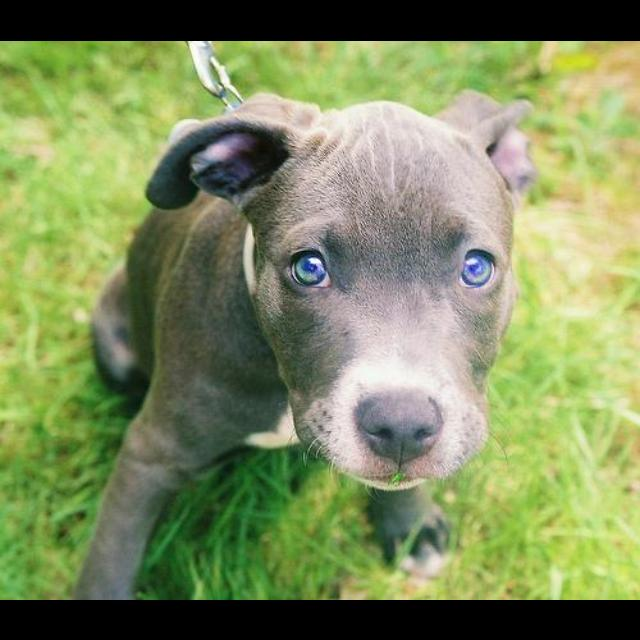amstaff: (70, 86, 539, 599)
